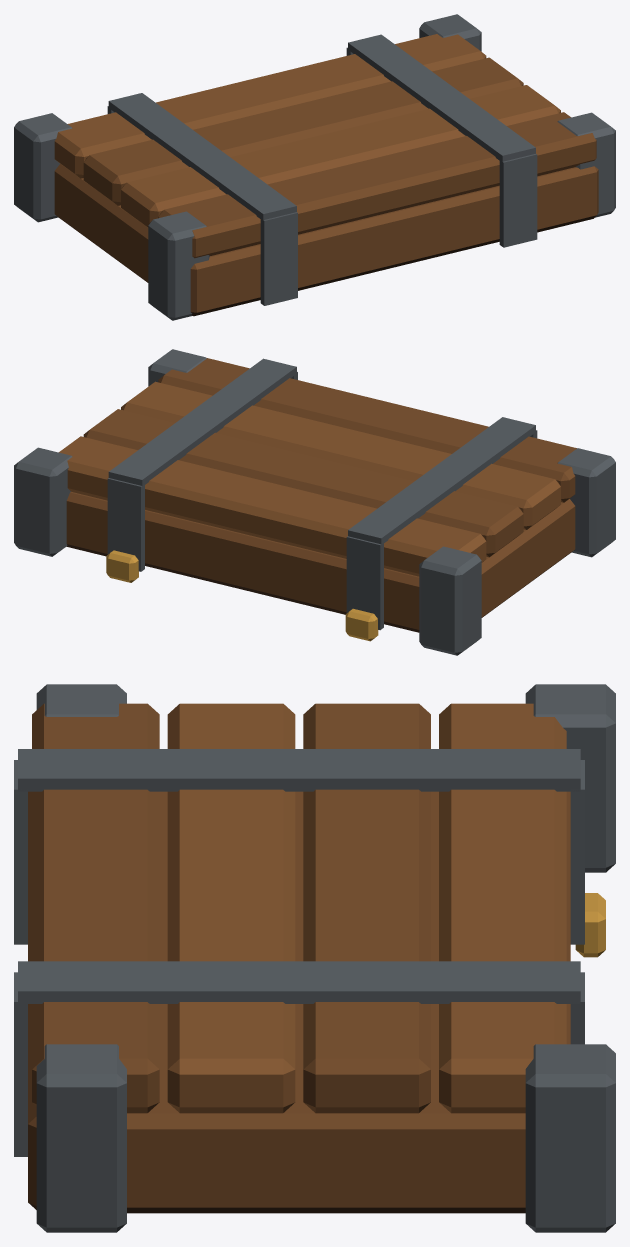
Rendered from Chest_Lid.fbx.
3 renders of one model, top to bottom at view 1: azimuth 30°, elevation 25°; view 2: azimuth 150°, elevation 25°; view 3: azimuth 270°, elevation 25°, orthographic. The views are drawn at different scales.
Visible parts, largest first — view 1: WeaponChestLid.001; view 2: WeaponChestLid.001; view 3: WeaponChestLid.001.
Part boxes in pixels (x1,y1,x2,y2): WeaponChestLid.001: (14,14,615,320); WeaponChestLid.001: (14,349,615,655); WeaponChestLid.001: (14,684,615,1232).
Bounding box in the file's own units: 0.9371 × 0.599 × 0.202.
